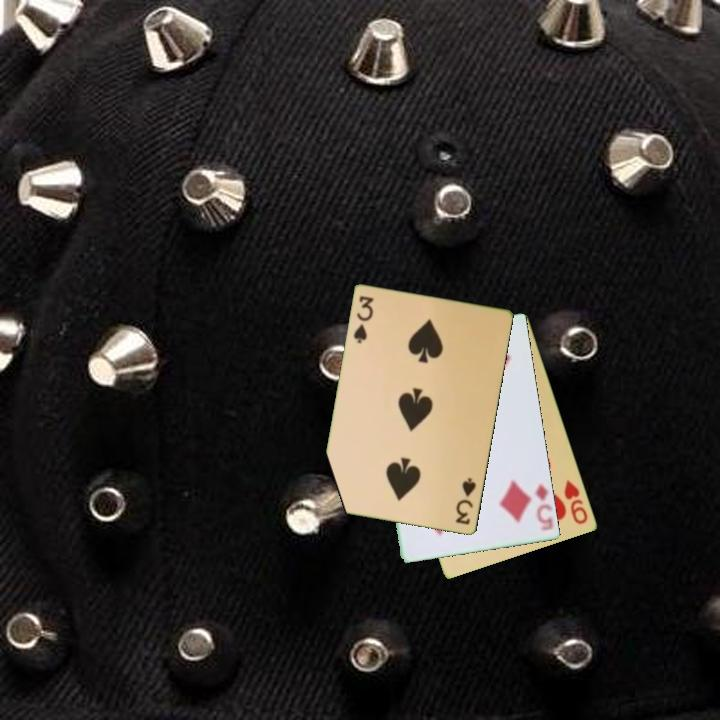3s: (350, 293, 377, 347), (452, 475, 479, 528)
5d: (531, 480, 556, 532)
9h: (561, 477, 591, 527)
